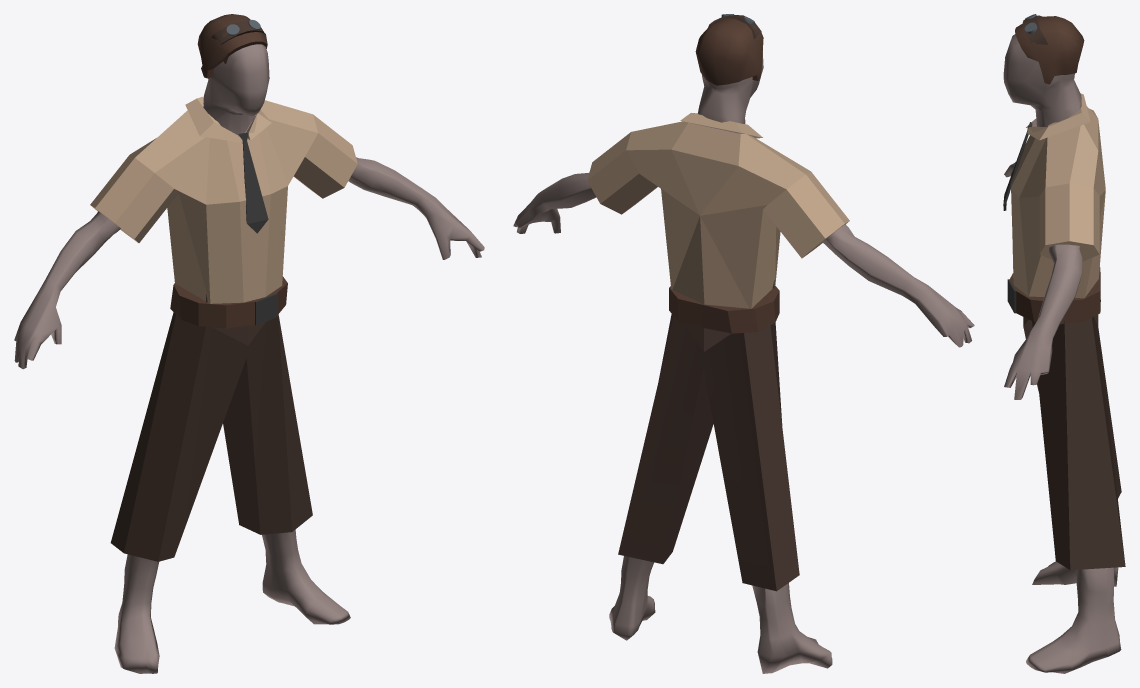
Rendered from charctersjgfljd.fbx.
The picture shows the model from 3 angles, left to right: view 1: azimuth 30°, elevation 25°; view 2: azimuth 150°, elevation 25°; view 3: azimuth 270°, elevation 25°; orthographic projection. The views are drawn at different scales.
Visible parts, largest first — view 1: pCylinder8; view 2: pCylinder8; view 3: pCylinder8.
Boxes of the visible parts, <box> form: pCylinder8: <box>14,14,484,673</box>; pCylinder8: <box>513,14,974,673</box>; pCylinder8: <box>1003,14,1125,673</box>.
Bounding box in the file's own units: 0.0461 × 0.0601 × 0.011.
